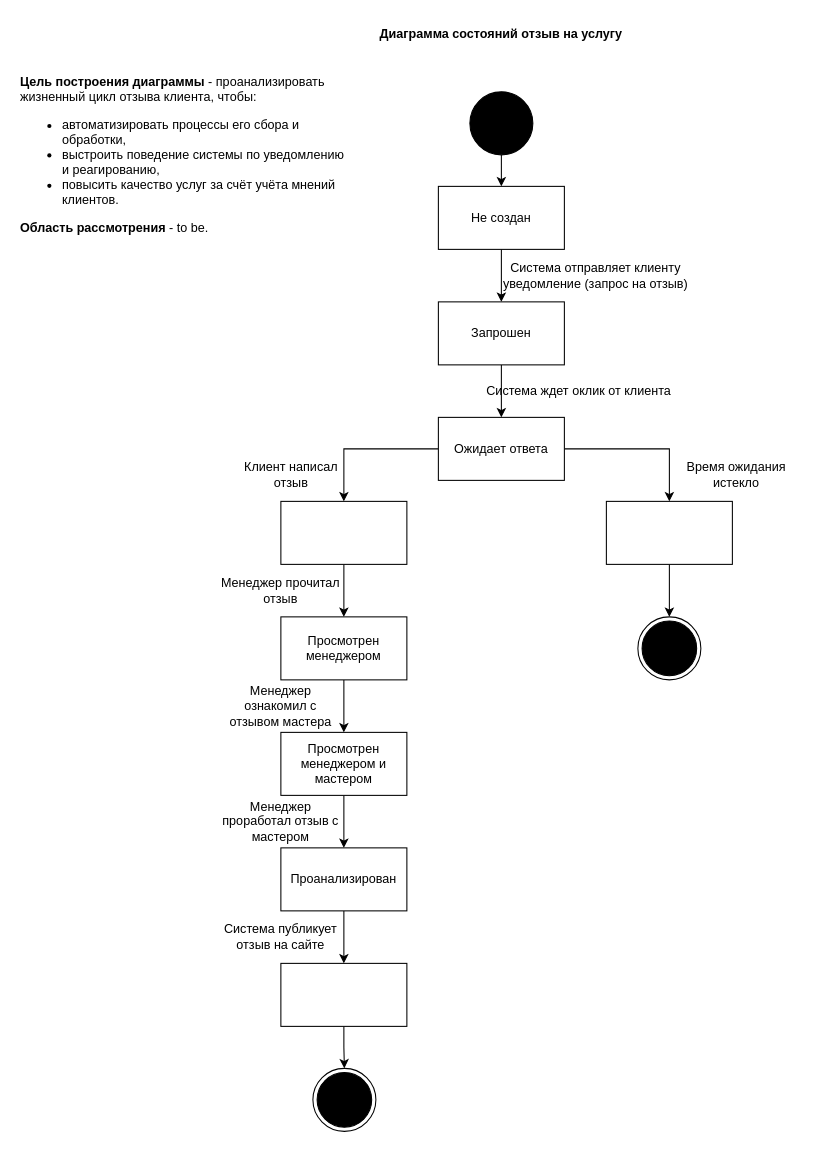
Some shapes in this 817 by 1150 pixel diagram are drawn without their labels. Here are the shapes that lost their labels. From the top down, the box of each, then its label:
(280, 500, 407, 564): Создан
(605, 500, 732, 564): Закрыт
(280, 962, 407, 1026): Опубликован
